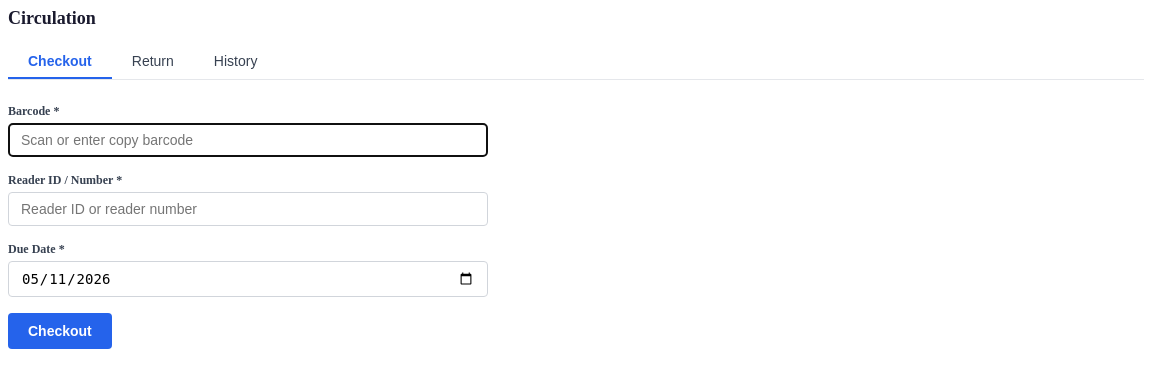
Test: CirculationPage › shows circulation history in History tab
The width and height of the screenshot is (1152, 366).
Click the button "History".
click(236, 62)  # box left=194, top=45, right=277, bottom=79
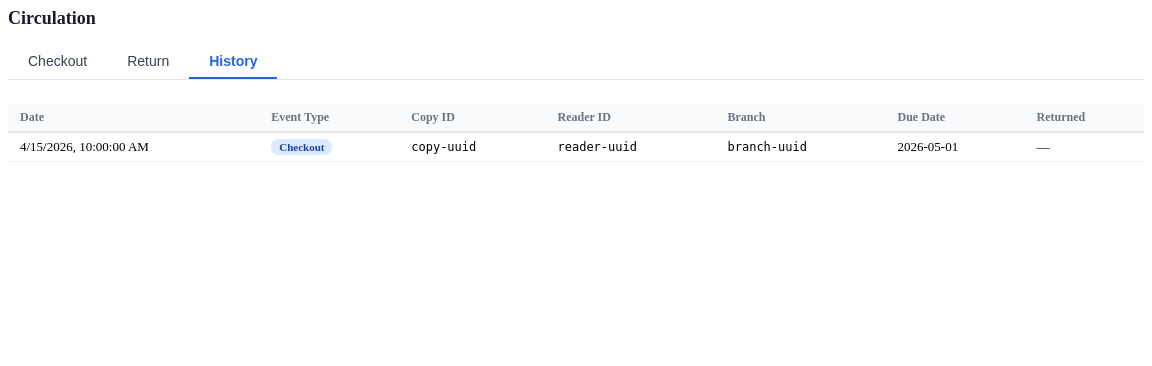
Now the text "copy-uuid" is shown, box left=399, top=132, right=546, bottom=162
